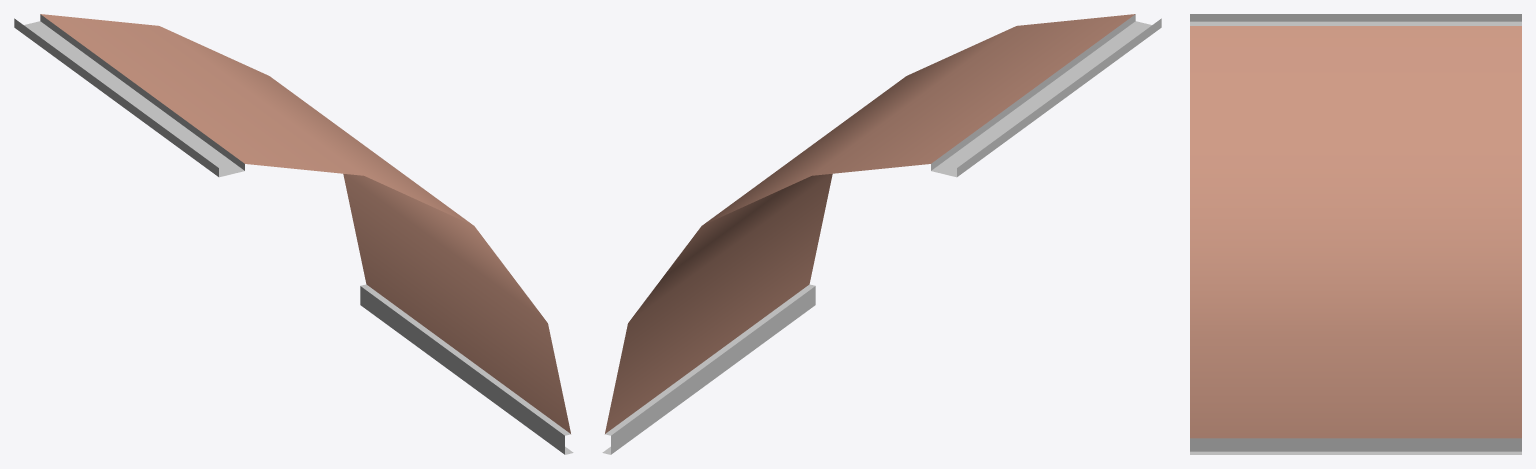
Rendered from CurvedCeiling.fbx.
3 renders of one model, left to right at view 1: azimuth 30°, elevation 25°; view 2: azimuth 150°, elevation 25°; view 3: azimuth 270°, elevation 25°, orthographic. The views are drawn at different scales.
Parts seen in each view (by area): view 1: CurvedCeiling; view 2: CurvedCeiling; view 3: CurvedCeiling.
Part boxes in pixels (bbox=[...]): CurvedCeiling: bbox=[14, 14, 573, 454]; CurvedCeiling: bbox=[602, 14, 1161, 454]; CurvedCeiling: bbox=[1190, 14, 1521, 454].
Bounding box in the file's own units: 200 × 200 × 200.
